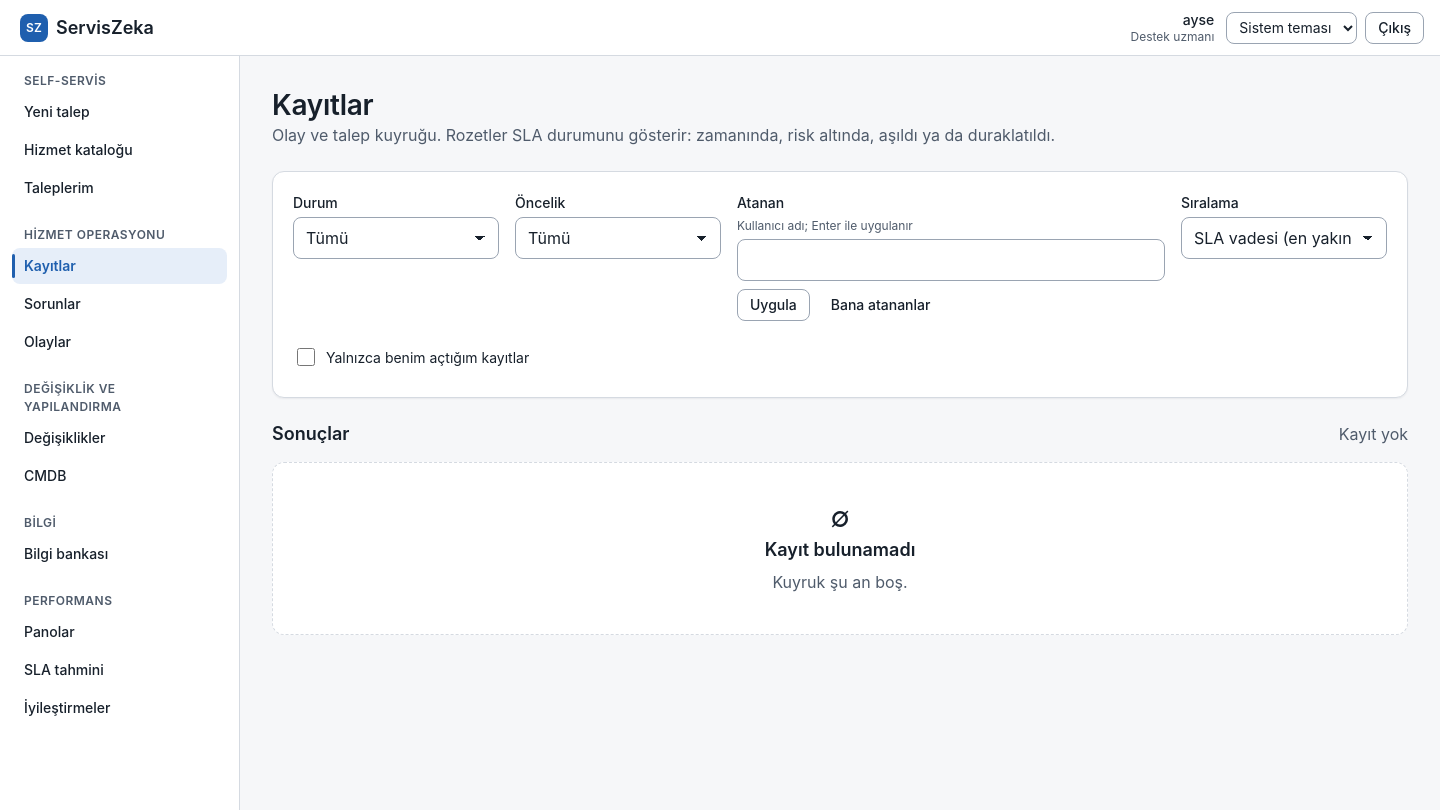
Scenario: uygulama kabuğu › çıkış yapınca giriş sayfası
The image size is (1440, 810).
Expected: the heading "Kayıtlar" is shown, [272,88,373,122]
Click the button "Çıkış" at [1395, 28], box [1365,12,1424,44]
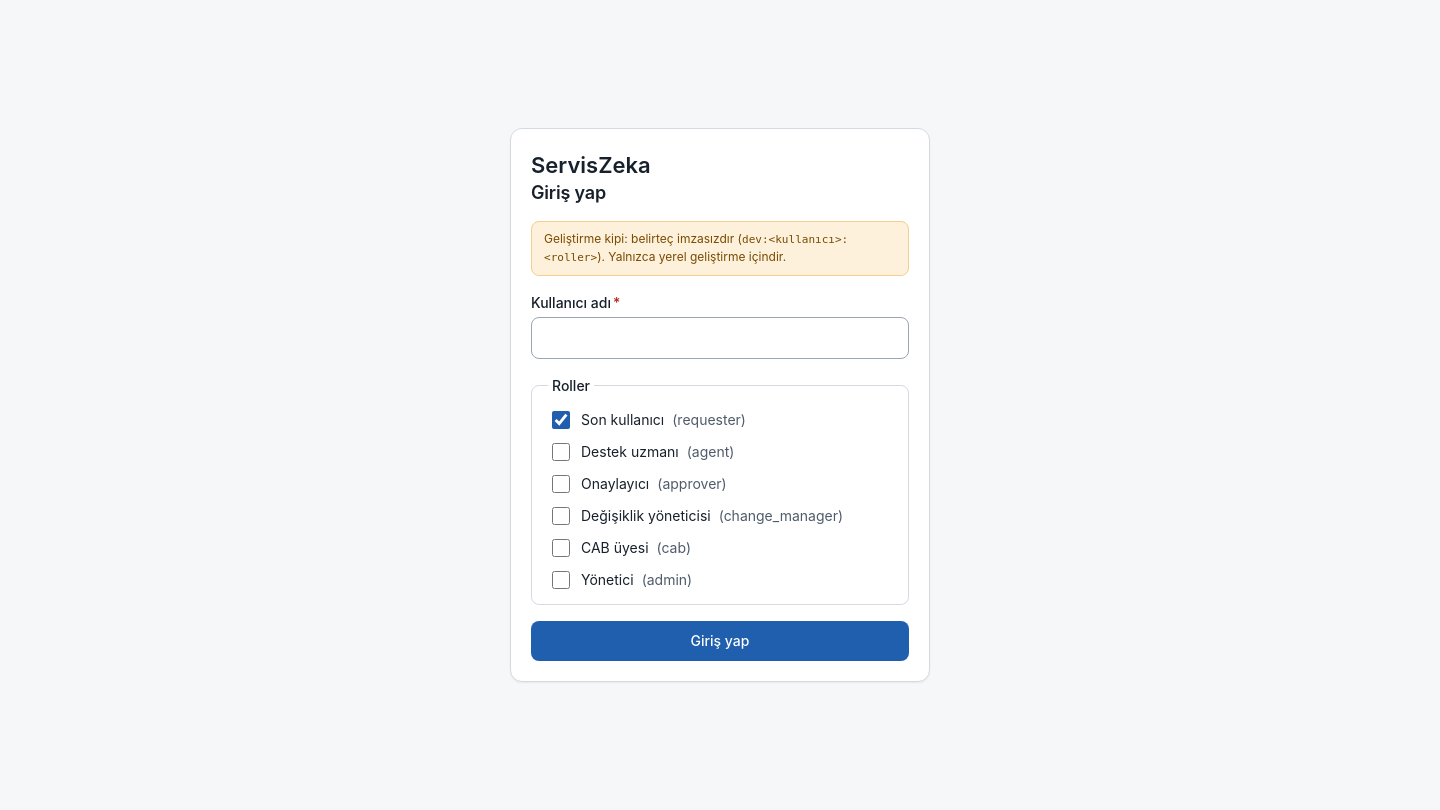
Expected: the heading "Giriş yap" is shown, [531,182,606,203]
